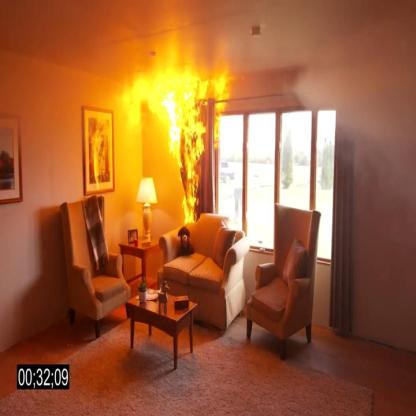fire: (115, 63, 233, 226)
